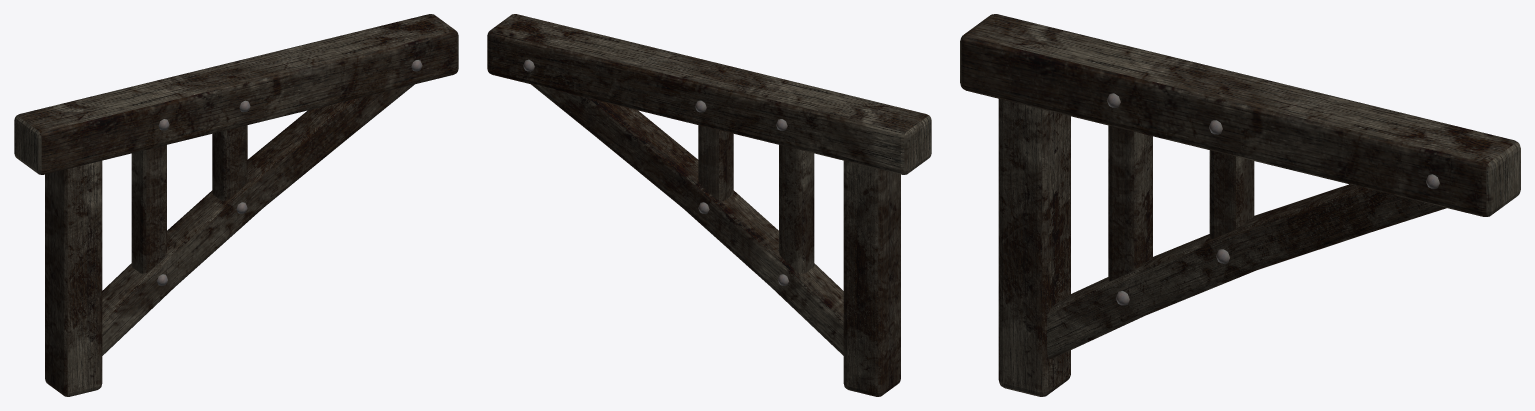
The model's file is WoodSupport.fbx.
The picture shows the model from 3 angles, left to right: view 1: azimuth 30°, elevation 25°; view 2: azimuth 150°, elevation 25°; view 3: azimuth 330°, elevation 25°; orthographic projection. The views are drawn at different scales.
Parts seen in each view (by area): view 1: Wooden Support; view 2: Wooden Support; view 3: Wooden Support.
Boxes of the visible parts, x1,y1,x2,y2 form: Wooden Support: [14, 14, 458, 396]; Wooden Support: [487, 14, 931, 396]; Wooden Support: [960, 14, 1520, 396].
Size of the model in its own units: 221 by 138 by 30.16.
